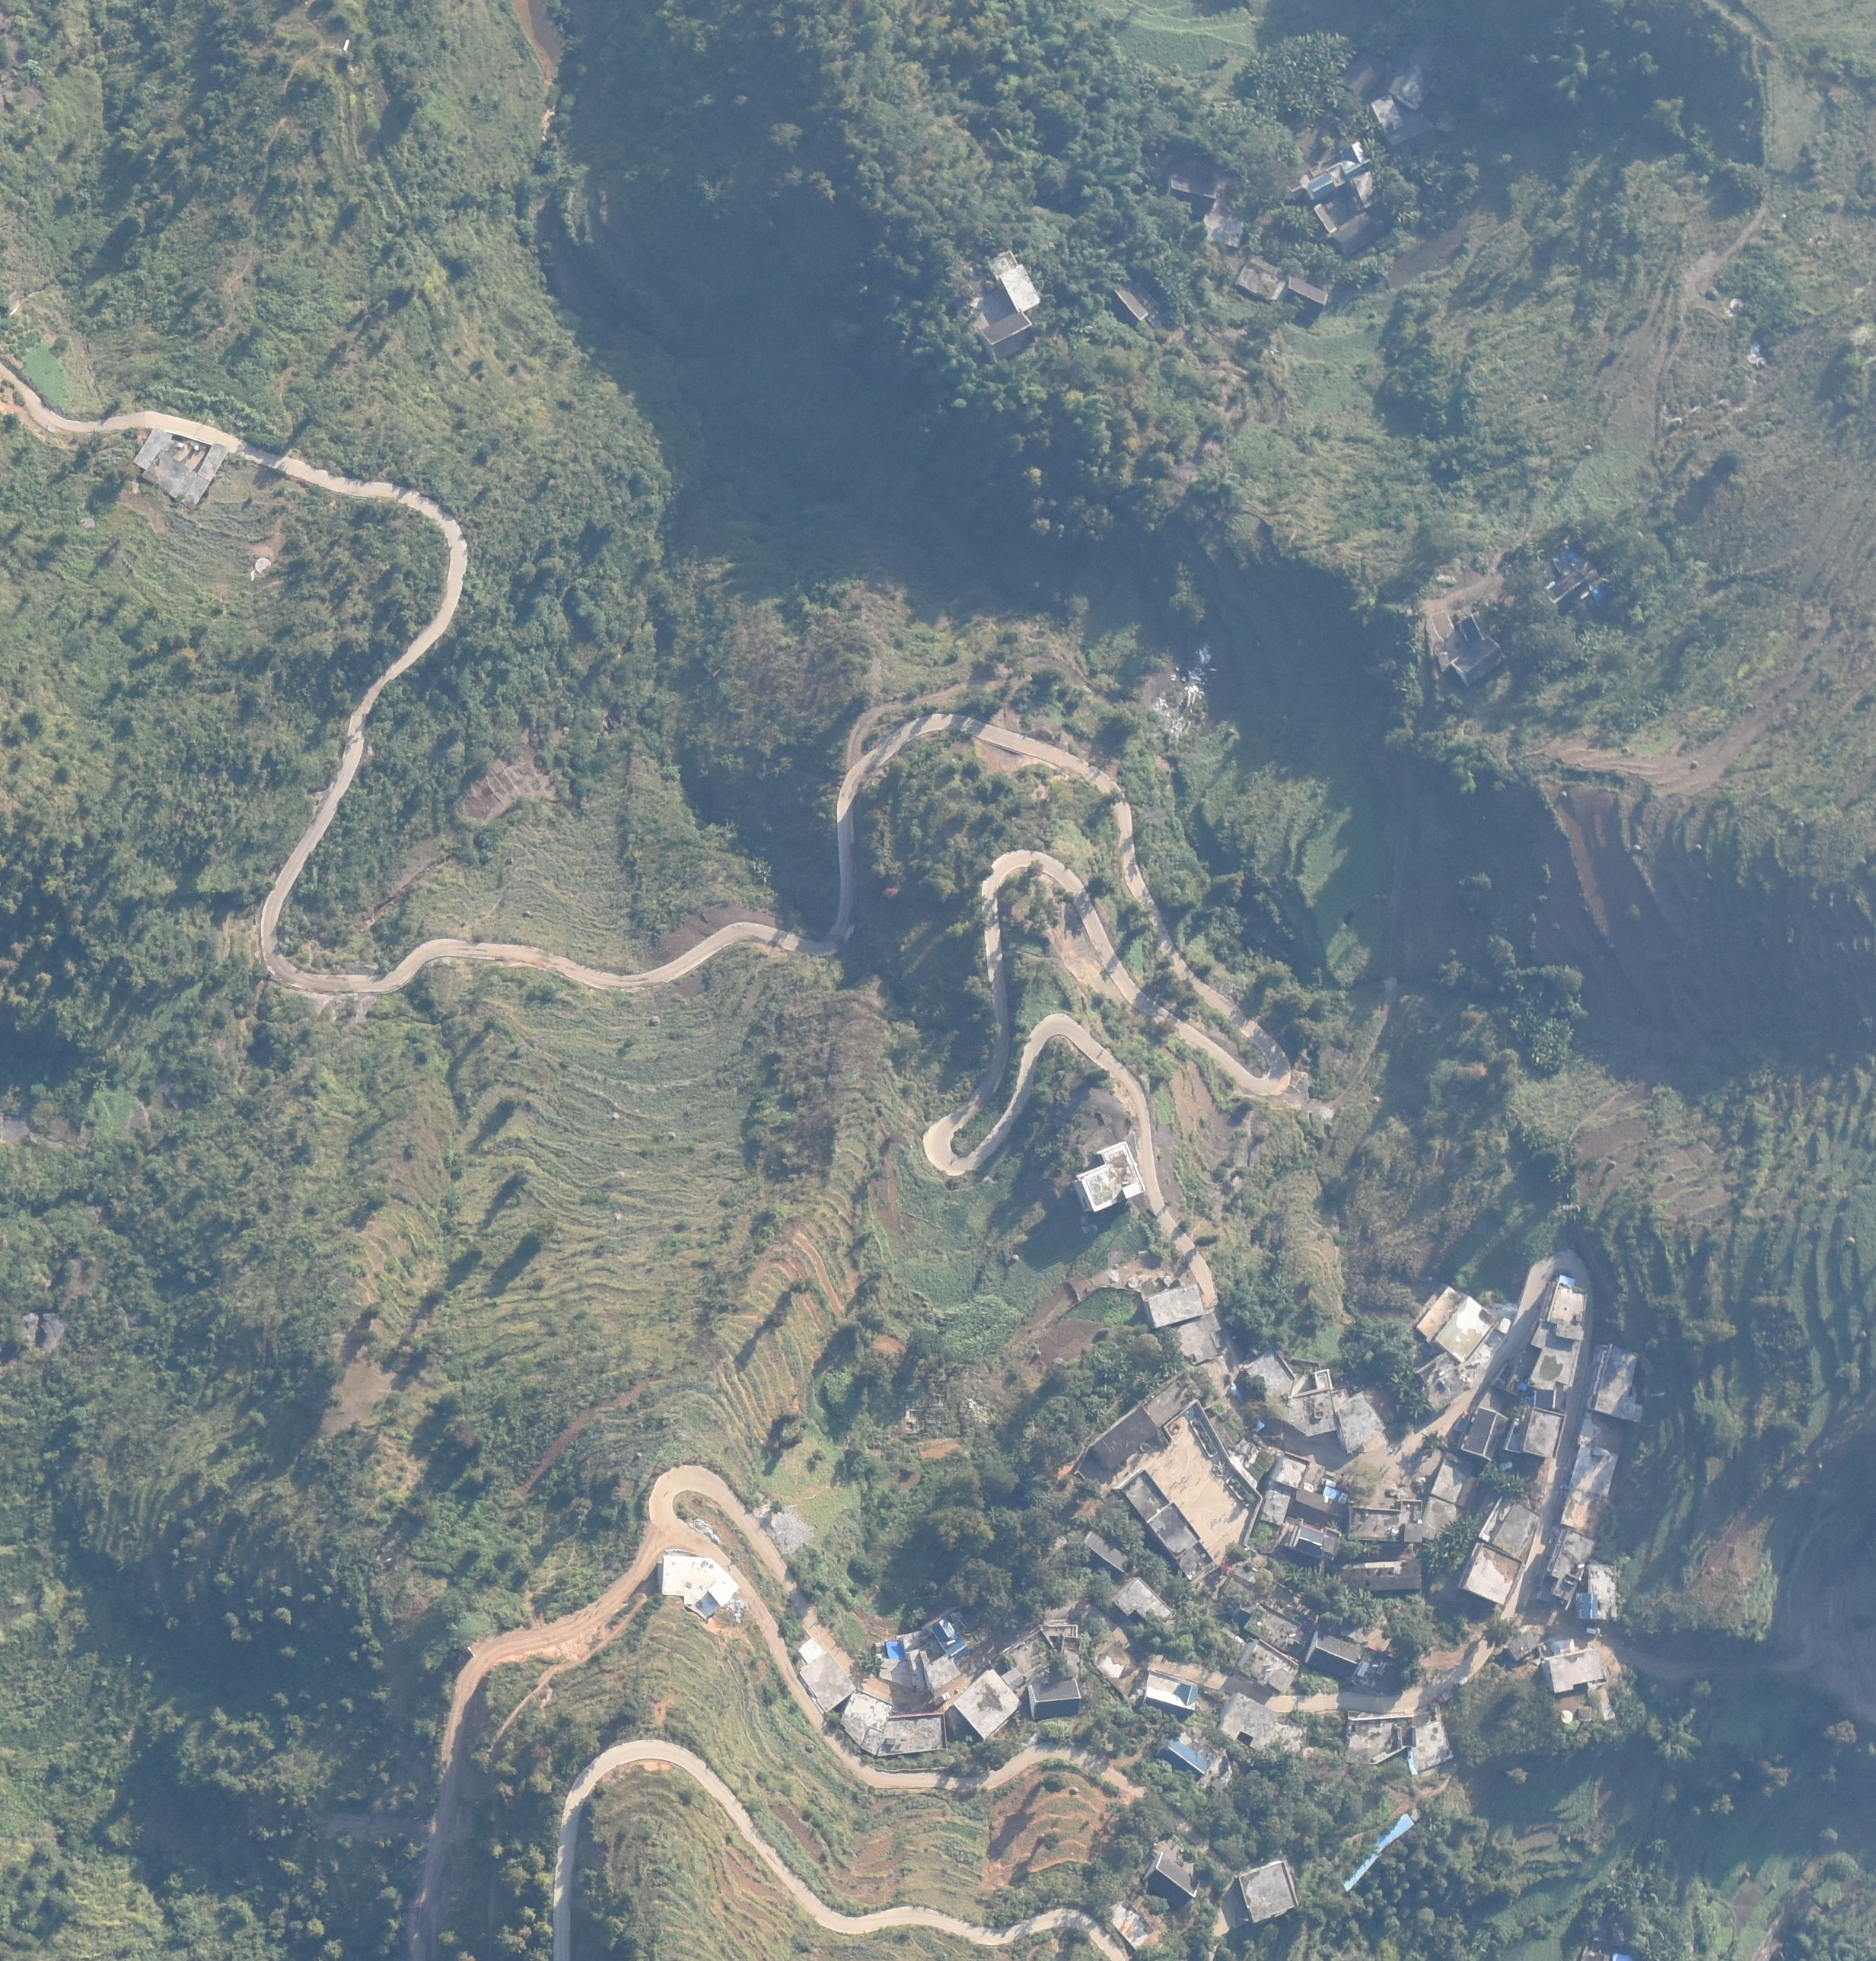building: (1294, 140, 1383, 231), (1246, 1351, 1337, 1434), (1003, 1623, 1086, 1711), (135, 428, 225, 508), (842, 1692, 949, 1755), (1307, 1632, 1393, 1694), (655, 1554, 737, 1619), (1417, 1289, 1486, 1361), (1475, 1491, 1538, 1565), (877, 1633, 959, 1690), (1150, 1501, 1212, 1575), (1072, 1143, 1139, 1210), (794, 1639, 853, 1712), (1441, 617, 1505, 683), (1540, 1531, 1595, 1607), (1588, 1345, 1644, 1421), (1424, 1462, 1477, 1539), (957, 1671, 1019, 1737), (1545, 548, 1607, 613), (1088, 1412, 1163, 1465), (1537, 1275, 1594, 1341), (1461, 1546, 1524, 1605), (1573, 1421, 1623, 1495), (1528, 1323, 1581, 1390), (1217, 1692, 1279, 1748), (1541, 1639, 1607, 1692), (1240, 1862, 1298, 1919), (1460, 1400, 1511, 1463), (1505, 1404, 1562, 1460), (1346, 1504, 1425, 1544), (976, 313, 1042, 361), (986, 255, 1042, 310), (1337, 1386, 1384, 1453), (1245, 1606, 1312, 1651), (1237, 1642, 1297, 1692), (1144, 1854, 1200, 1906), (1142, 1284, 1207, 1327), (1113, 1469, 1165, 1523), (1112, 1579, 1171, 1625), (1401, 1719, 1452, 1770), (1340, 1561, 1424, 1590), (1581, 1562, 1622, 1619), (1084, 1530, 1135, 1576), (1142, 1670, 1199, 1711), (1153, 1740, 1210, 1781), (1104, 1902, 1153, 1949), (1172, 1315, 1220, 1361), (1234, 257, 1285, 299), (1168, 170, 1221, 209), (1293, 1489, 1349, 1524), (1387, 65, 1433, 107), (1563, 1495, 1607, 1536), (1287, 1524, 1339, 1558), (1200, 212, 1245, 249), (1286, 279, 1330, 314), (1110, 282, 1146, 322), (1274, 1452, 1309, 1490), (1259, 1487, 1292, 1525), (1374, 99, 1404, 135), (1522, 1386, 1567, 1410), (1589, 1684, 1617, 1723), (1503, 1627, 1536, 1657)
prefabricated-house: (928, 1606, 975, 1660), (1339, 1851, 1382, 1890), (1374, 1815, 1418, 1851)
vehicle: (1454, 1408, 1470, 1434), (929, 1692, 951, 1705)
well: (255, 556, 271, 576), (81, 515, 95, 533), (1558, 1708, 1573, 1724)
